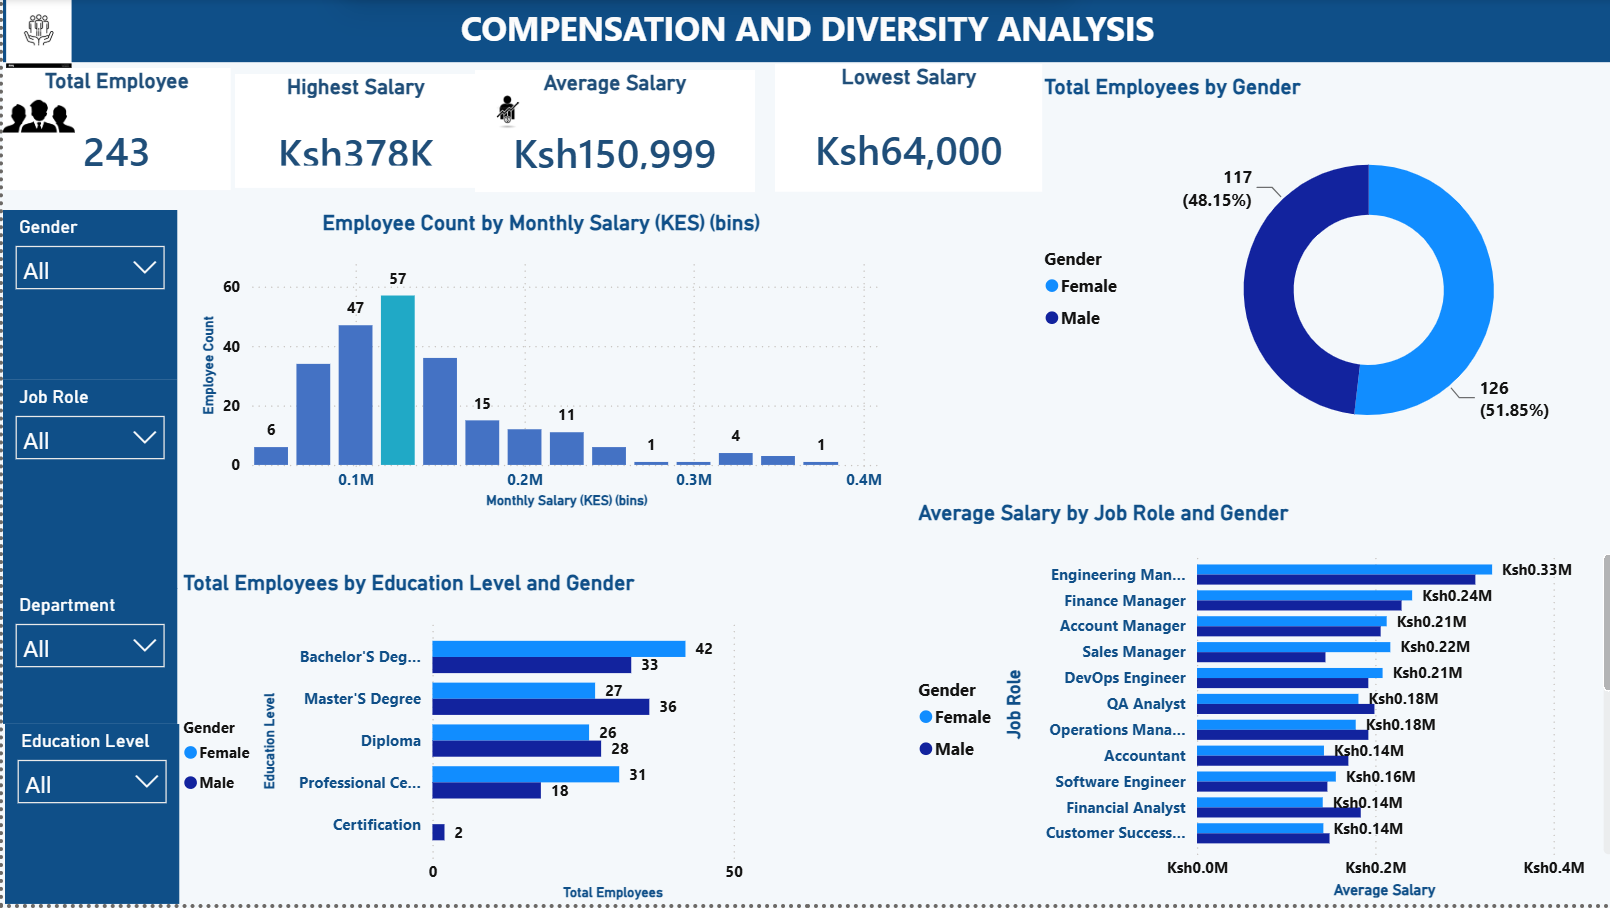

What the dashboard file says about the page in this screenshot:
{"tool":"powerbi","page":{"name":"Compensation and Diversity Analysis","canvas":[1280,720],"ordinal":3},"visuals":[{"type":"cardVisual","title":"Average Salary","fields":{"Data":["Employee Data.Average Salary"]},"box":[375.1,57.2,222.5,97],"z":0,"group":"g1"},{"type":"slicer","fields":{"Values":["Employee Data.Job Role"]},"box":[0,303.6,138.3,165.3],"z":0},{"type":"actionButton","box":[0,0,200,50],"z":1000,"group":"g1"},{"type":"slicer","fields":{"Values":["Employee Data.Gender"]},"box":[0,168.5,138.3,135.1],"z":1000},{"type":"image","box":[376.5,63.5,49.3,46.1],"z":2000,"group":"g1"},{"type":"slicer","fields":{"Values":["Employee Data.Education Level"]},"box":[0,577,138.3,143],"z":2000},{"type":"cardVisual","title":"Highest Salary","fields":{"Data":["Employee Data.Highest Salary"]},"box":[184.4,60.4,192.3,90.6],"z":3000},{"type":"cardVisual","title":"Lowest Salary","fields":{"Data":["Employee Data.Lowest salary"]},"box":[613.5,52.5,211.4,101.7],"z":4000},{"type":"clusteredBarChart","fields":{"Category":["Employee Data.Education Level"],"Y":["Employee Data.Total Employees"],"Series":["Employee Data.Gender"]},"box":[138.3,454.6,502.3,267],"z":5000},{"type":"donutChart","fields":{"Y":["Employee Data.Total Employees"],"Category":["Employee Data.Gender"]},"box":[821.7,60.4,457.7,313.1],"z":6000},{"type":"clusteredBarChart","fields":{"Category":["Employee Data.Job Role"],"Y":["Employee Data.Average Salary"],"Series":["Employee Data.Gender"]},"box":[721.6,398.9,562.6,321.1],"z":7000},{"type":"slicer","fields":{"Values":["Employee Data.Department"]},"box":[0,468.9,138.3,131.9],"z":8000},{"type":"columnChart","fields":{"Category":["Employee Data.Monthly Salary (KES) (bins)"],"Y":["Employee Data.Employee Count"]},"box":[152.6,168.5,549.9,241.6],"z":9000},{"type":"cardVisual","title":"Total Employee ","fields":{"Data":["Employee Data.Total Employees"]},"box":[0,55.6,181.2,97],"z":10000},{"type":"image","box":[0,69.9,57.2,47.7],"z":11000},{"type":"group","id":"g1","title":"Group 1","box":[0,0,597.6,154.2],"z":12000},{"type":"group","id":"g2","title":"Group 2","box":[0,0,1277.9,55.6],"z":13000},{"type":"textbox","box":[0,0,1277.9,50.9],"z":13000,"group":"g2"},{"type":"image","box":[0,0,57.2,55.6],"z":13005,"group":"g2"}]}

Visuals, with their boxes in screenshot pixels (x1, y1, x2, y2), scaled from the page's 1280x720 canvas onto the 1610x908 screenshot:
"Average Salary" cardVisual: x1=472, y1=72, x2=752, y2=194
slicer - Employee Data.Job Role: x1=0, y1=383, x2=174, y2=591
actionButton: x1=0, y1=0, x2=252, y2=63
slicer - Employee Data.Gender: x1=0, y1=212, x2=174, y2=383
image: x1=474, y1=80, x2=536, y2=138
slicer - Employee Data.Education Level: x1=0, y1=728, x2=174, y2=907
"Highest Salary" cardVisual: x1=232, y1=76, x2=474, y2=190
"Lowest Salary" cardVisual: x1=772, y1=66, x2=1038, y2=194
clusteredBarChart - Employee Data.Education Level x Employee Data.Total Employees: x1=174, y1=573, x2=806, y2=907
donutChart - Employee Data.Total Employees x Employee Data.Gender: x1=1034, y1=76, x2=1609, y2=471
clusteredBarChart - Employee Data.Job Role x Employee Data.Average Salary: x1=908, y1=503, x2=1609, y2=907
slicer - Employee Data.Department: x1=0, y1=591, x2=174, y2=758
columnChart - Employee Data.Monthly Salary (KES) (bins) x Employee Data.Employee Count: x1=192, y1=212, x2=884, y2=517
"Total Employee " cardVisual: x1=0, y1=70, x2=228, y2=192
image: x1=0, y1=88, x2=72, y2=148
"Group 1" group: x1=0, y1=0, x2=752, y2=194
"Group 2" group: x1=0, y1=0, x2=1607, y2=70
textbox: x1=0, y1=0, x2=1607, y2=64
image: x1=0, y1=0, x2=72, y2=70
